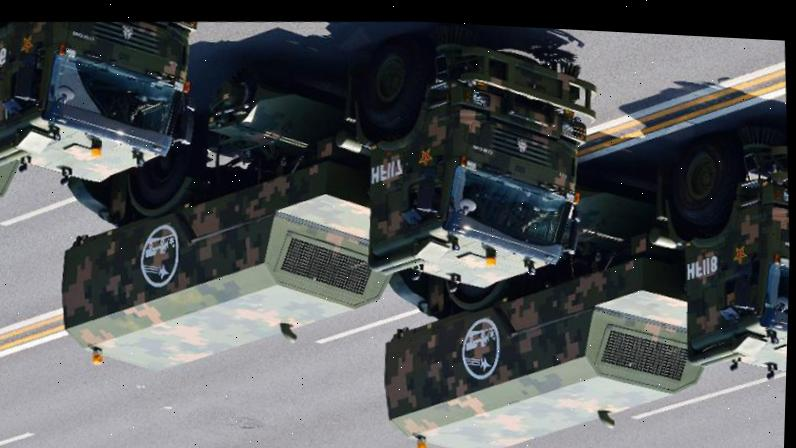truck: (35, 2, 608, 397), (357, 87, 794, 448)
